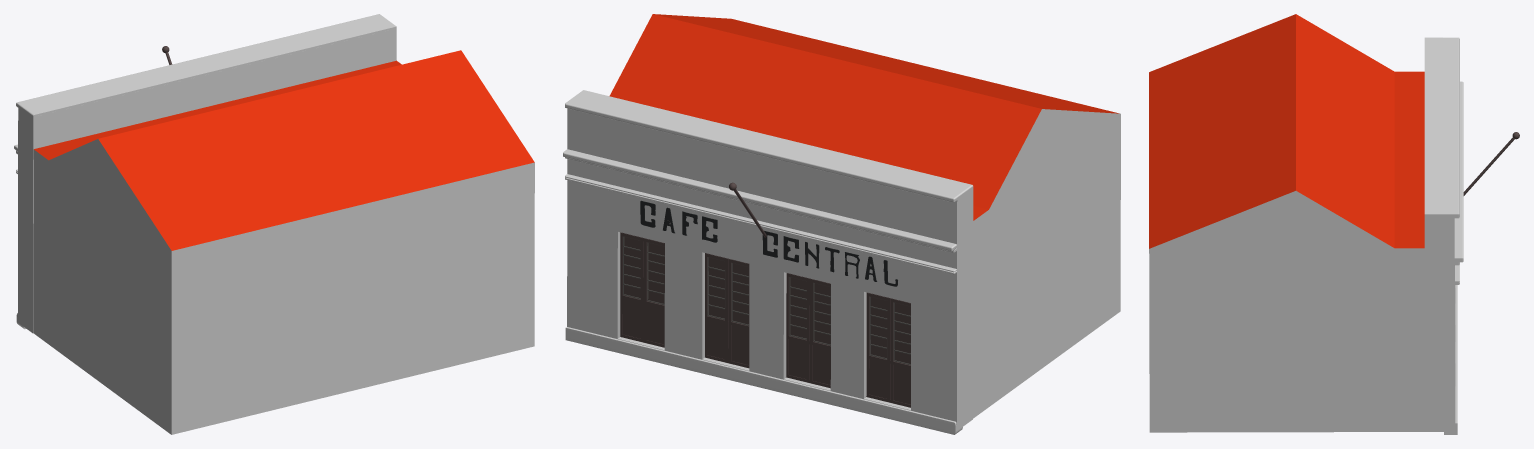
The model's file is cafecentral.glb.
3 views of the same model, side by side, from view 1: azimuth 30°, elevation 25°; view 2: azimuth 150°, elevation 25°; view 3: azimuth 270°, elevation 25° (orthographic). The views are drawn at different scales.
Parts seen in each view (by area): view 1: Cube.011, Cube.014, Cube.017; view 2: Cube.011, Cube.014, Cube.017, Cube.020, Cube.016, Cube.145, Cube.045, Cube.111, Cube.077, Cube.018, Cube.019, Cube.015 (+8 smaller); view 3: Cube.011, Cube.014, Cube.017, Cube.016, Cube.020.
Boxes of the visible parts, bbox=[...] form: Cube.011: bbox=[33, 50, 534, 434]; Cube.014: bbox=[18, 28, 396, 333]; Cube.017: bbox=[16, 14, 396, 117]; Cube.011: bbox=[609, 14, 1120, 418]; Cube.014: bbox=[567, 108, 973, 430]; Cube.017: bbox=[565, 90, 973, 202]; Cube.020: bbox=[565, 327, 962, 434]; Cube.016: bbox=[563, 149, 972, 251]; Cube.145: bbox=[870, 297, 910, 363]; Cube.045: bbox=[708, 257, 748, 324]; Cube.111: bbox=[790, 277, 830, 344]; Cube.077: bbox=[624, 237, 664, 303]; Cube.018: bbox=[565, 174, 972, 272]; Cube.019: bbox=[565, 177, 972, 274]; Cube.015: bbox=[565, 157, 972, 252]; Cube.011: bbox=[1149, 14, 1425, 432]; Cube.014: bbox=[1424, 216, 1455, 431]; Cube.017: bbox=[1424, 37, 1459, 218]; Cube.016: bbox=[1426, 81, 1463, 262]; Cube.020: bbox=[1444, 285, 1457, 434].
Bounding box in the file's own units: 13.4 × 8.63 × 11.87.
